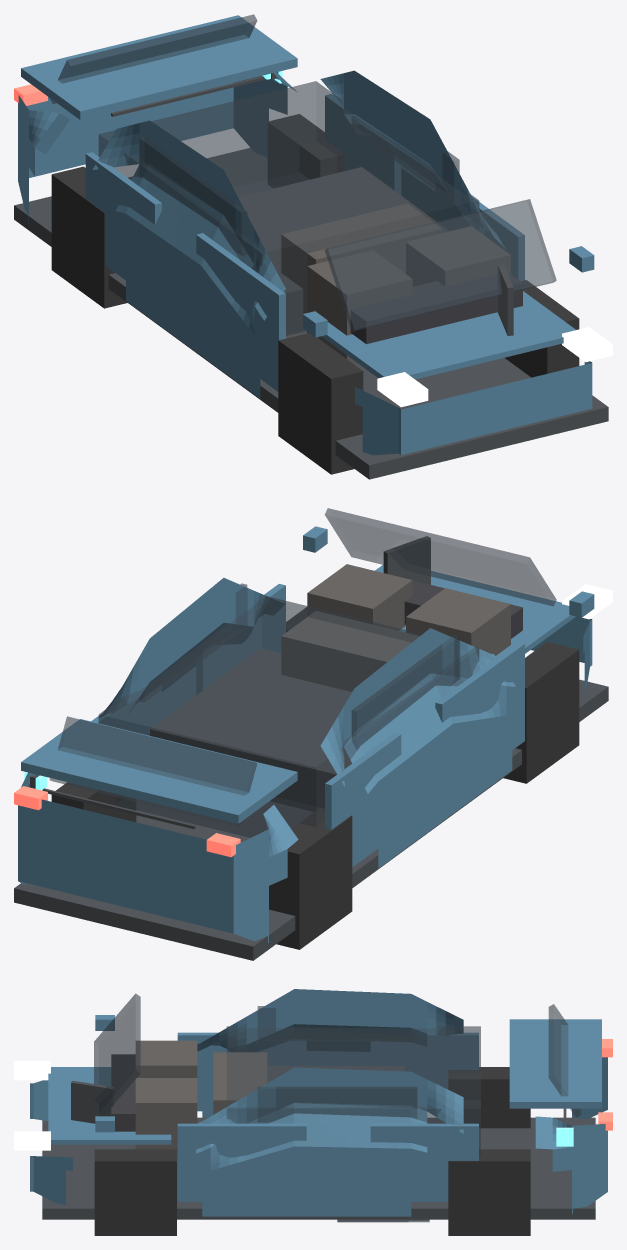
Rendered from compact_sedan_lod.22af2dc5d7.glb.
3 renders of one model, top to bottom at view 1: azimuth 30°, elevation 25°; view 2: azimuth 150°, elevation 25°; view 3: azimuth 270°, elevation 25°, orthographic. The views are drawn at different scales.
Parts seen in each view (by area): view 1: body_mesh, cab_mesh, windshield, trunk_mesh, trim_mesh, frunk_mesh, tire_fr, wheel_well_mesh, seat_rear, tire_rr, dash, seat_r (+14 smaller); view 2: body_mesh, cab_mesh, wheel_well_mesh, trunk_mesh, trim_mesh, windshield, tire_rr, rear_glass, seat_rear, tire_fr, seat_l, door_rr_mesh (+14 smaller); view 3: body_mesh, cab_mesh, trim_mesh, trunk_mesh, tire_fl, tire_rl, window_fixed_l, door_rl_mesh, door_fl_mesh, frunk_mesh, windshield, seat_l (+13 smaller).
Boxes of the visible parts, box(x1,y1,x2,y2) form: body_mesh: box(18, 70, 592, 455); cab_mesh: box(98, 81, 479, 333); windshield: box(325, 199, 556, 331); trunk_mesh: box(21, 15, 297, 119); trim_mesh: box(14, 148, 608, 479); frunk_mesh: box(321, 291, 575, 379); tire_fr: box(278, 333, 363, 474); wheel_well_mesh: box(238, 167, 448, 335); seat_rear: box(281, 203, 441, 313); tire_rr: box(51, 166, 127, 308); dash: box(350, 272, 522, 344); seat_r: box(307, 250, 412, 364); body_mesh: box(18, 578, 592, 942); cab_mesh: box(98, 596, 479, 837); wheel_well_mesh: box(150, 648, 351, 811); trunk_mesh: box(21, 719, 297, 823); trim_mesh: box(14, 679, 608, 960); windshield: box(325, 508, 556, 606); tire_rr: box(269, 808, 352, 949); rear_glass: box(49, 716, 257, 826); seat_rear: box(281, 611, 419, 691); tire_fr: box(503, 641, 579, 783); seat_l: box(307, 564, 412, 630); door_rr_mesh: box(325, 733, 401, 866); body_mesh: box(30, 989, 607, 1216); cab_mesh: box(226, 1026, 480, 1155); trim_mesh: box(42, 1117, 595, 1219); trunk_mesh: box(509, 1019, 601, 1108); tire_fl: box(94, 1149, 176, 1235); tire_rl: box(448, 1149, 530, 1235); window_fixed_l: box(257, 1086, 417, 1122); door_rl_mesh: box(370, 1123, 478, 1201); door_fl_mesh: box(177, 1123, 306, 1201); frunk_mesh: box(48, 1067, 171, 1144); windshield: box(94, 993, 140, 1118); seat_l: box(135, 1078, 197, 1158).
Bounding box in the file's own units: 2.04 × 1.73 × 4.87.
